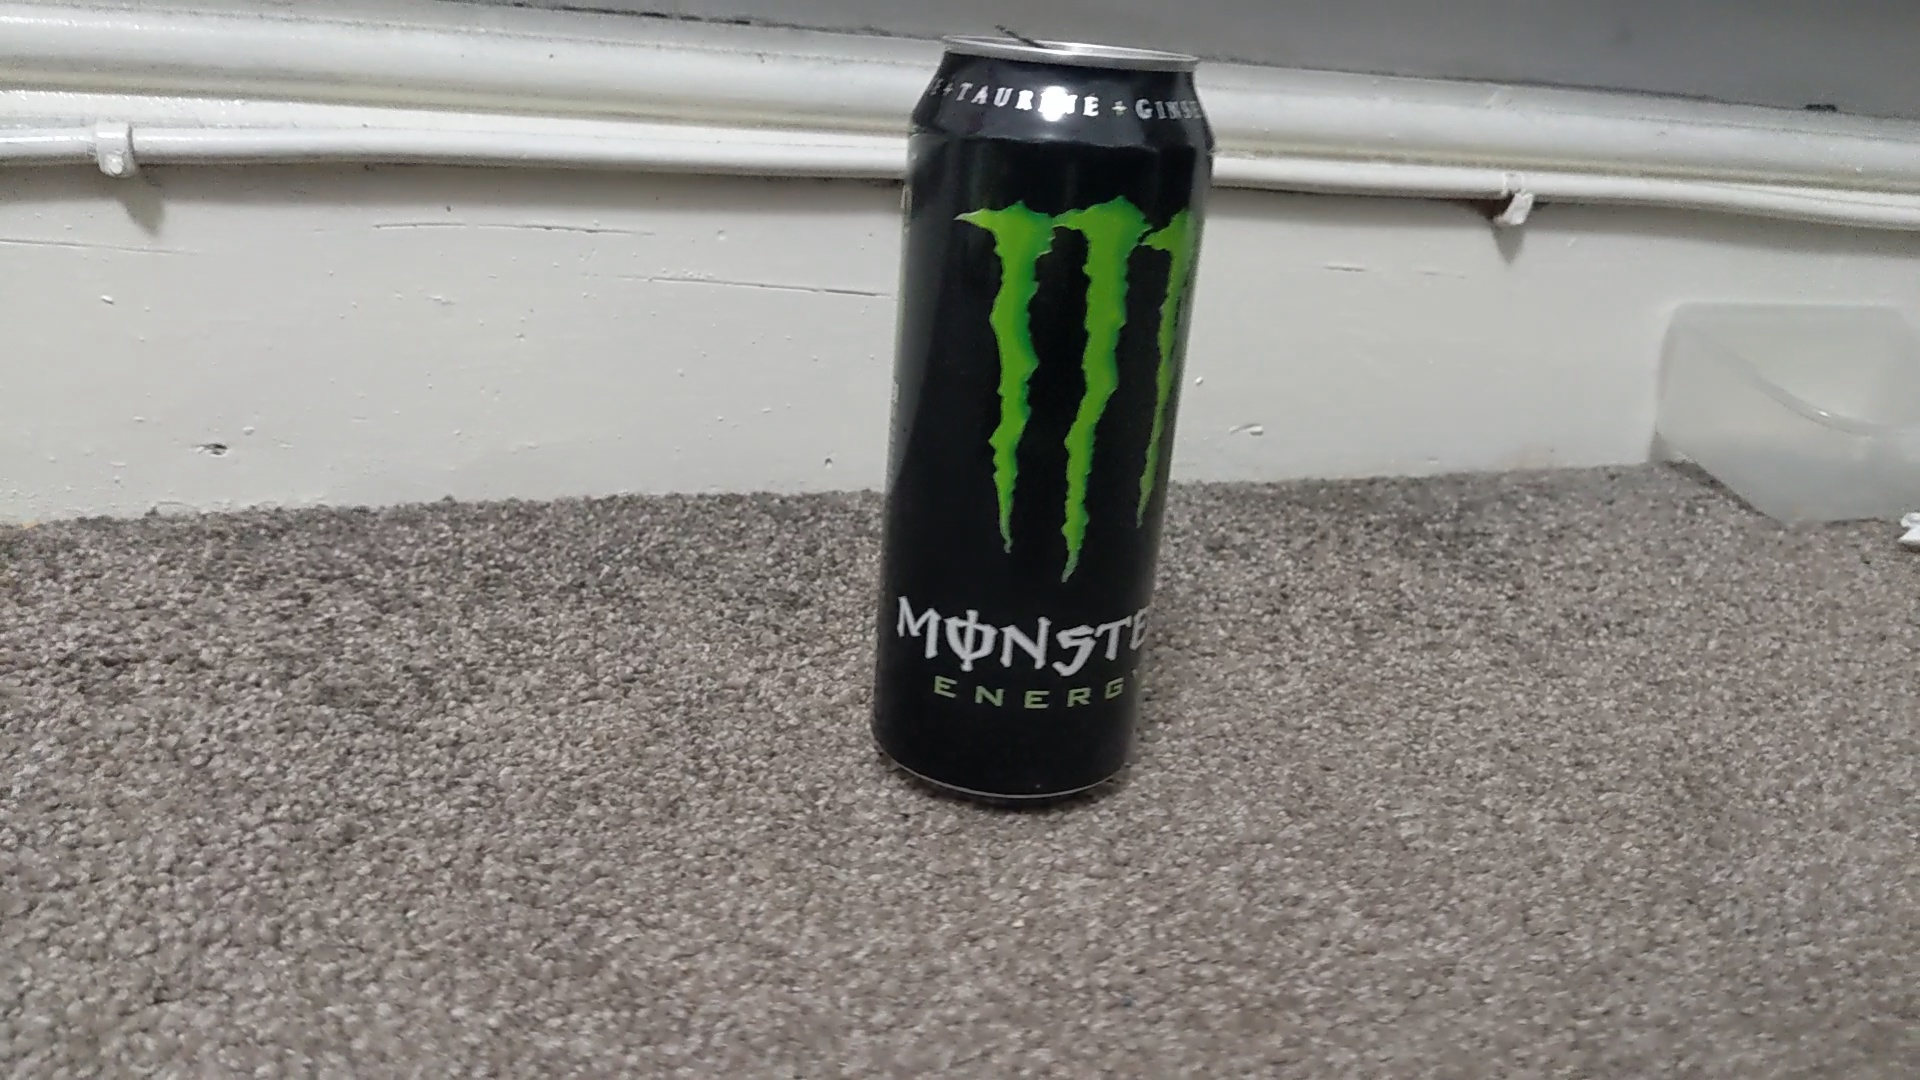monster-original: (866, 30, 1218, 800)
